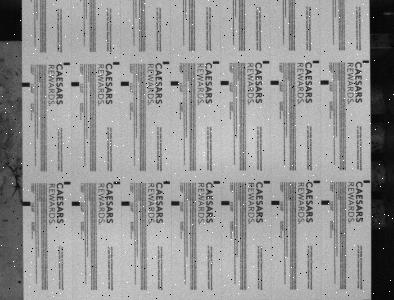qblock: (121, 201, 130, 206), (321, 200, 330, 205), (121, 82, 129, 87), (321, 80, 329, 85), (71, 82, 79, 87), (72, 201, 80, 206), (272, 200, 280, 205), (271, 81, 280, 85), (171, 201, 180, 205), (221, 81, 229, 85), (171, 82, 179, 86), (22, 83, 30, 87), (222, 201, 230, 205), (22, 202, 30, 206)
smallqblock: (163, 61, 170, 65), (264, 180, 271, 184), (214, 180, 221, 184), (63, 63, 70, 66), (263, 61, 270, 64), (213, 61, 220, 64), (64, 181, 71, 184), (363, 60, 370, 63), (164, 181, 171, 184), (364, 180, 371, 183), (113, 62, 120, 65), (313, 61, 320, 64), (114, 181, 120, 184), (314, 180, 320, 183), (364, 298, 371, 300), (314, 299, 321, 300)
